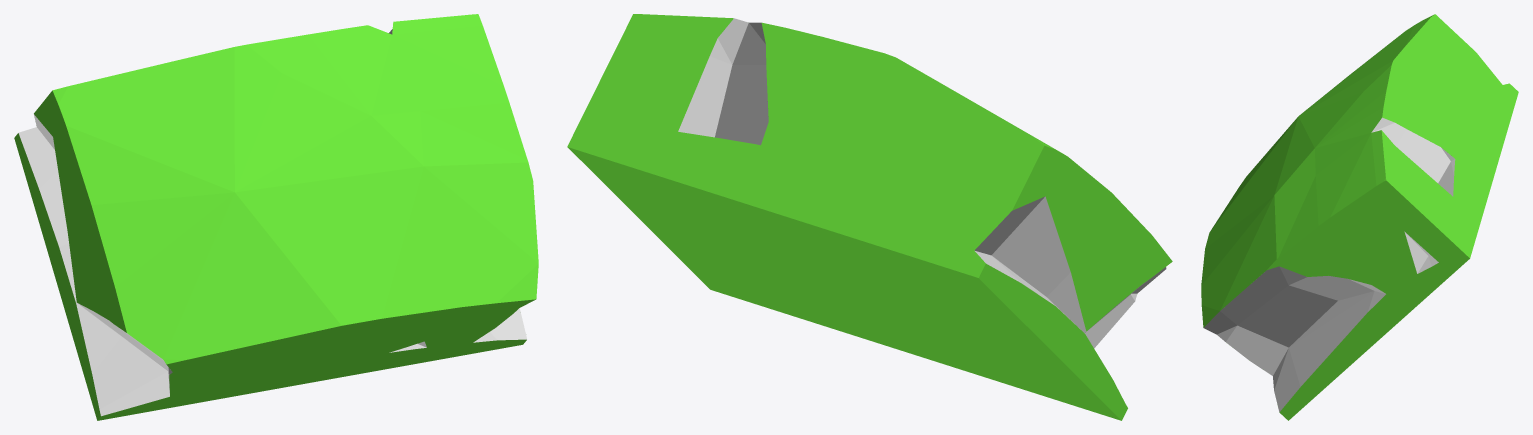
File: aboutUs_4.glb
The picture shows the model from 3 angles, left to right: view 1: azimuth 30°, elevation 25°; view 2: azimuth 150°, elevation 25°; view 3: azimuth 270°, elevation 25°; orthographic projection. The views are drawn at different scales.
Parts seen in each view (by area): view 1: Sphere.009; view 2: Sphere.009; view 3: Sphere.009.
Part boxes in pixels (<box>): Sphere.009: <box>14,14,538,420</box>; Sphere.009: <box>567,14,1172,420</box>; Sphere.009: <box>1201,14,1518,420</box>.
Size of the model in its own units: 0.6598 by 0.455 by 0.4935.
